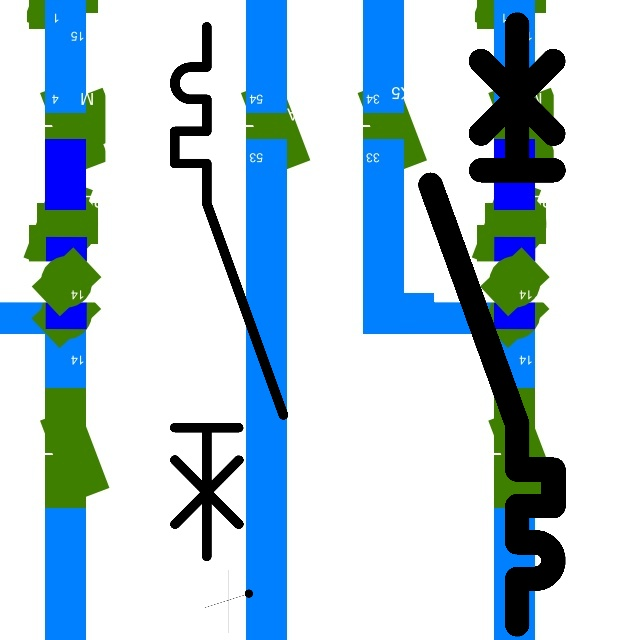interruptor_termomagnetico: (415, 9, 569, 640), (161, 13, 297, 570)
